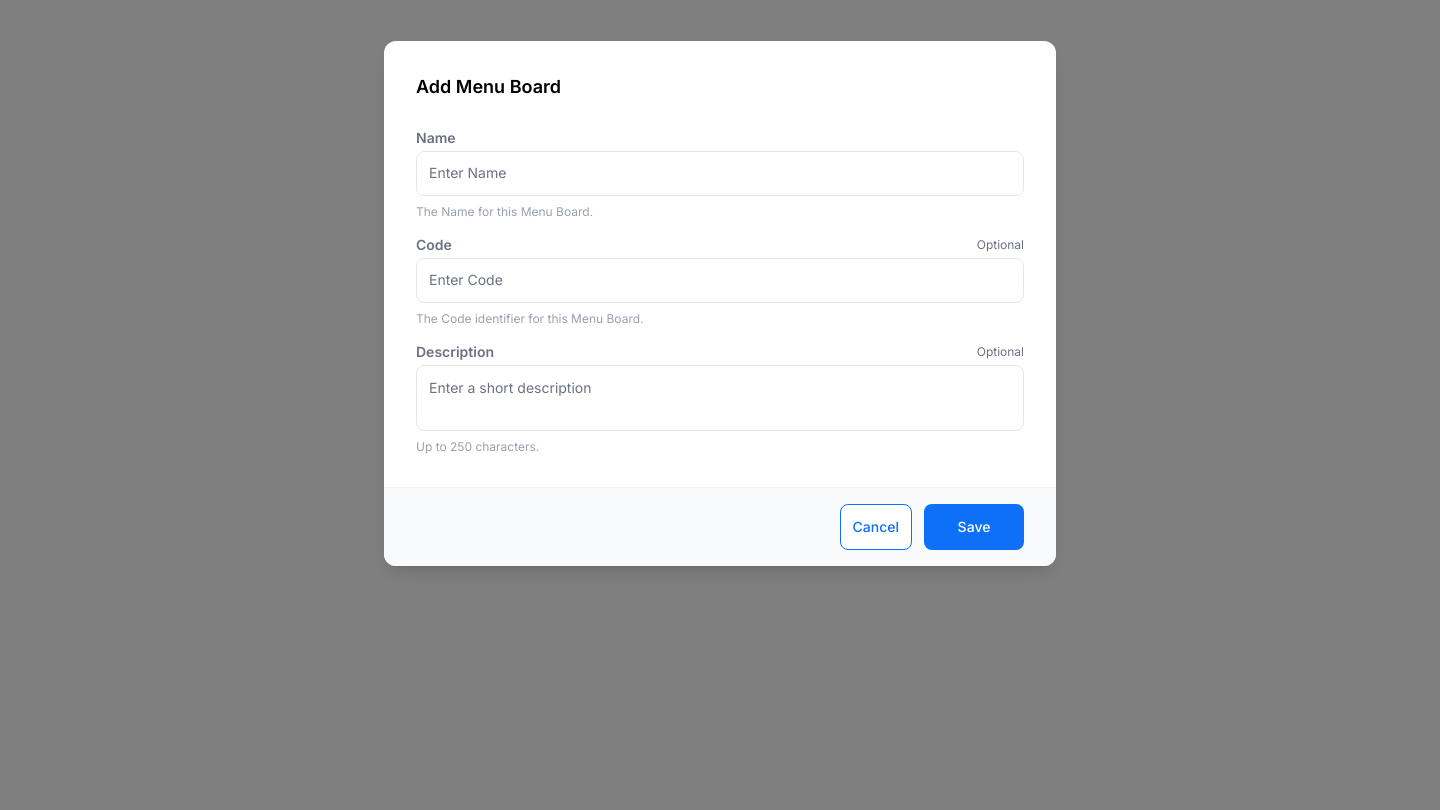
Test: AddAndEditMenuBoardModal › Add mode › clears the name error once the user types a valid name
Click the button "Save": (974, 526) top-left (924, 504), bottom-right (1024, 550)
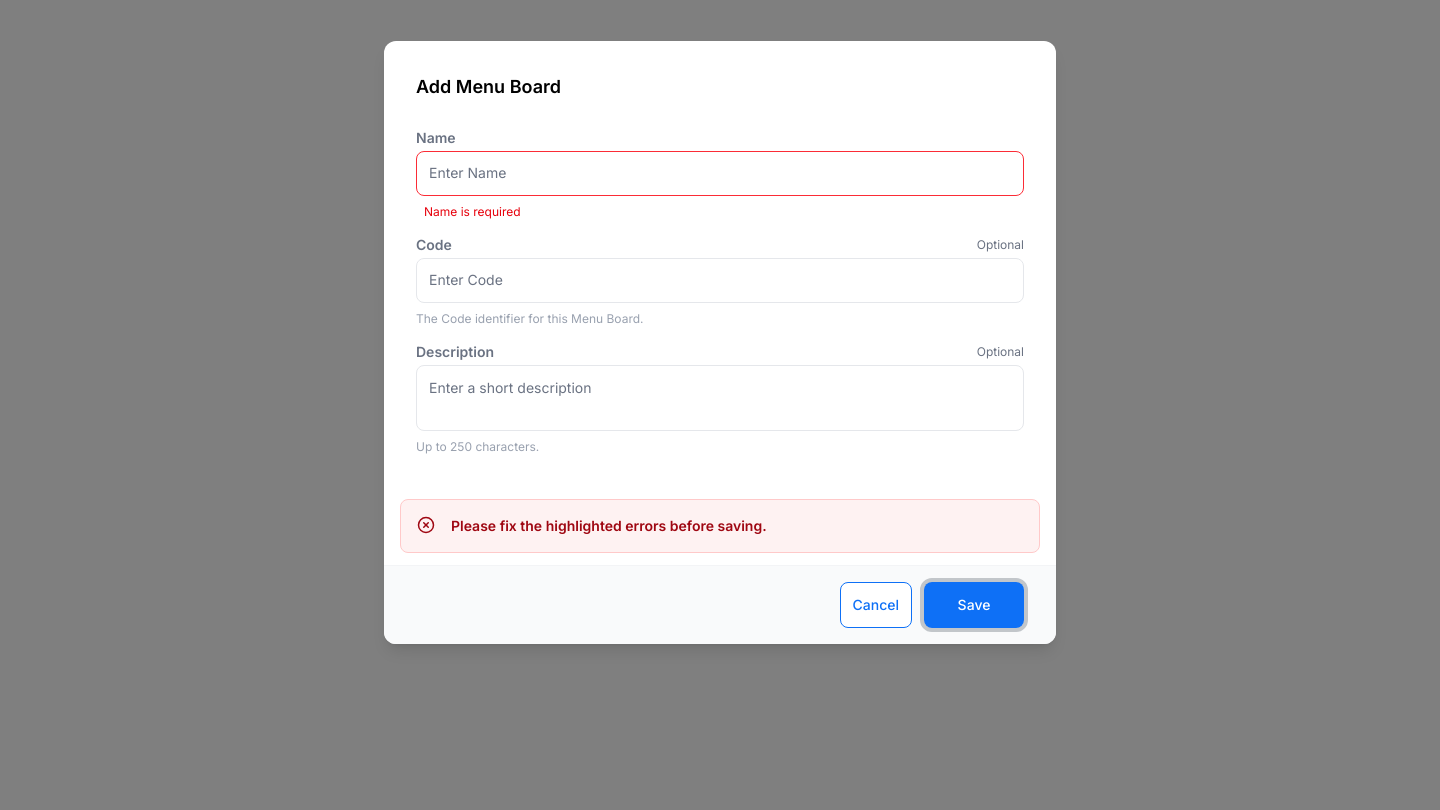
Check: the text "Name is required" is shown, box top-left (424, 204), bottom-right (521, 218)
In the field labelled "Name": (720, 173) top-left (417, 152), bottom-right (1023, 194), type "B"
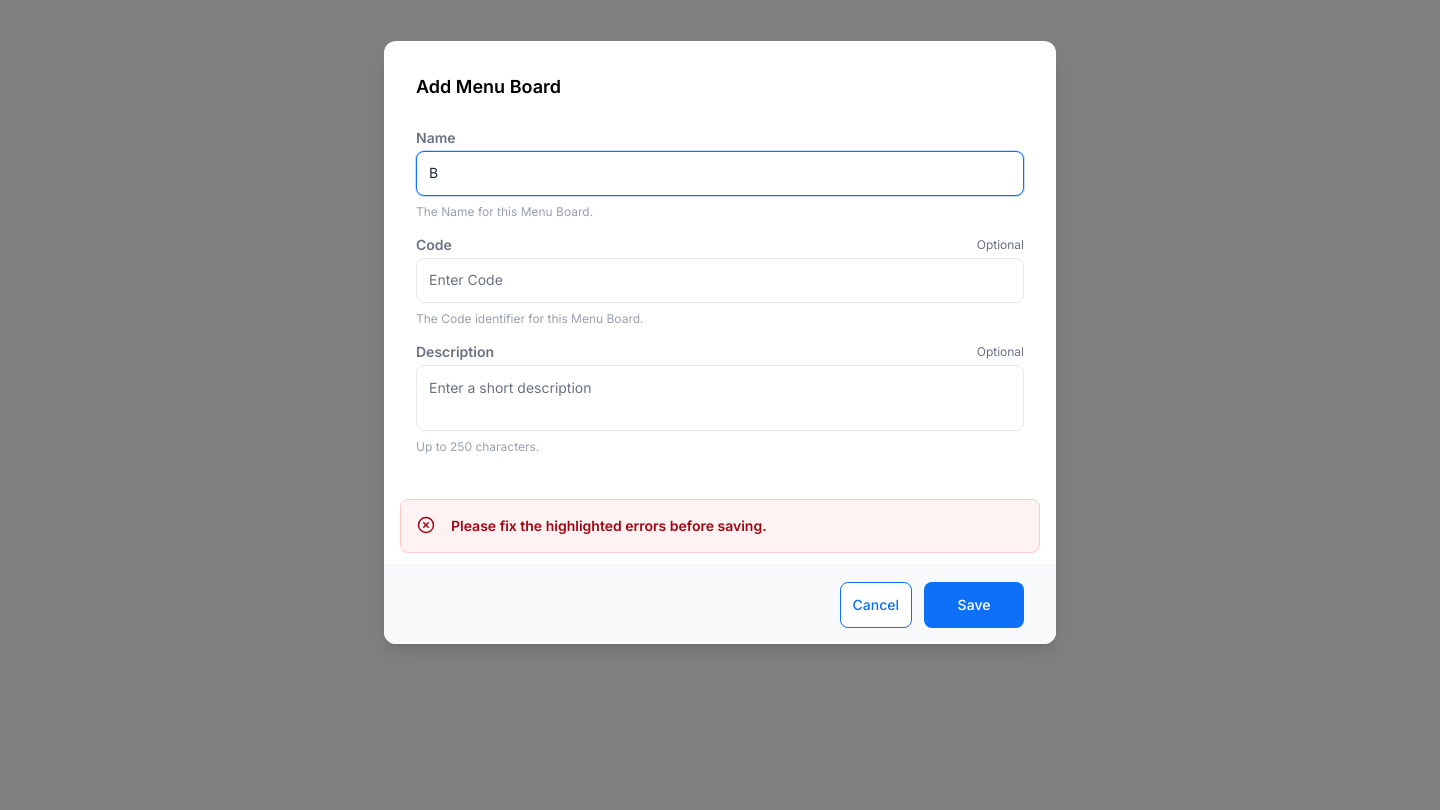
Check: the text "Name is required" is gone
